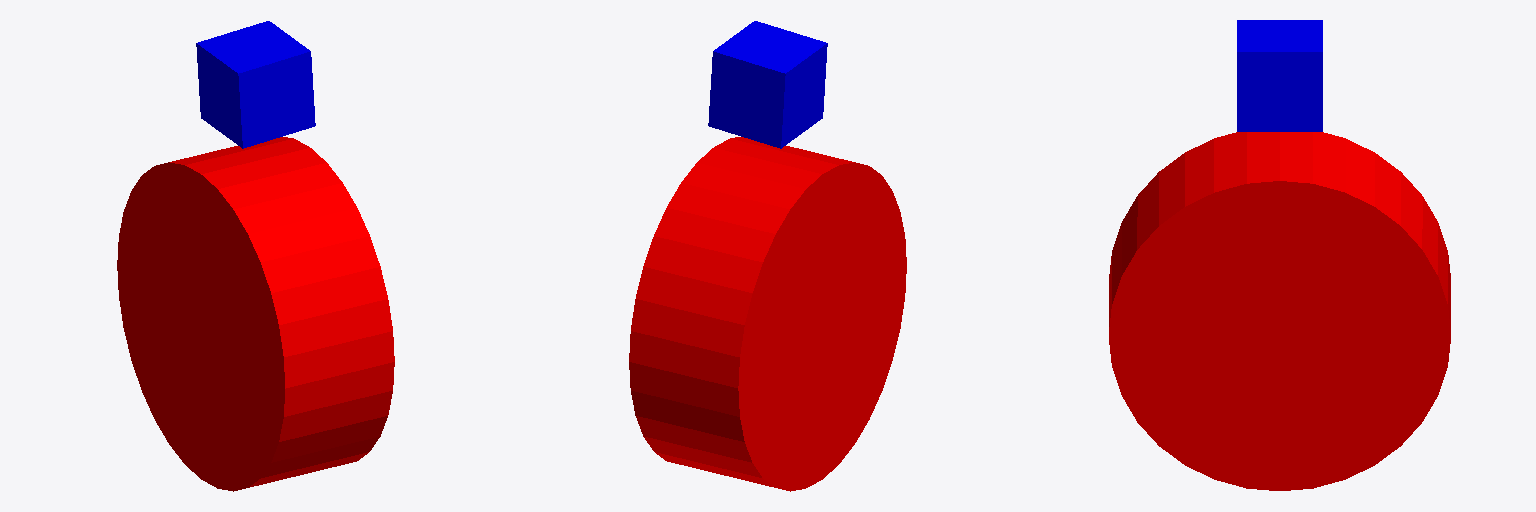
The robot description file, URDF, robot "ur5":
<?xml version="1.0"?>
<robot name="ur5">
  <link name="base_link">
    <inertial>
      <origin xyz="-0.00036702 -0.00036758 0.016561" rpy="0 0 0"/>
      <mass value="4.0"/>
      <inertia ixx="0.00060258" ixy="1.7502E-05" ixz="1.5277E-06" iyy="0.00060261" iyz="1.5241E-06" izz="0.0010709"/>
    </inertial>
    <visual>
      <origin xyz="0 0 0" rpy="0 0 0"/>
      <geometry>
        <mesh filename="package://ur5/base_link.STL"/>
      </geometry>
      <material name="White">
        <color rgba="0 0 0 1"/>
      </material>
    </visual>
    <collision>
      <origin xyz="0 0 0" rpy="0 0 0"/>
      <geometry>
        <mesh filename="package://ur5/base_link.STL"/>
      </geometry>
    </collision>
  </link>
  <link name="shoulder_link">
    <inertial>
      <origin xyz="-0.078966 0.016439 -6.3565E-06" rpy="0 0 0"/>
      <mass value="3.7"/>
      <inertia ixx="0.0028298" ixy="0.00031932" ixz="-1.3132E-07" iyy="0.002538" iyz="4.4907E-07" izz="0.0026207"/>
    </inertial>
    <visual>
      <origin xyz="0 0 0" rpy="0 0 0"/>
      <geometry>
        <mesh filename="package://ur5/shoulder_link.STL"/>
      </geometry>
      <material name="Black">
        <color rgba="0 0 1 1"/>
      </material>
    </visual>
    <collision>
      <origin xyz="0 0 0" rpy="0 0 0"/>
      <geometry>
        <mesh filename="package://ur5/shoulder_link.STL"/>
      </geometry>
    </collision>
  </link>
  <joint name="shoulder_pan_joint" type="revolute">
    <origin xyz="0 0 0.0099916" rpy="1.5708 1.5708 0"/>
    <parent link="base_link"/>
    <child link="shoulder_link"/>
    <axis xyz="1 0 0"/>
    <limit lower="-6.2832" upper="6.2832" effort="300" velocity="3"/>
    <dynamics damping="10" friction="1"/>
  </joint>
  <link name="upper_arm_link">
    <inertial>
      <origin xyz="-0.21652 0.079293 8.661E-08" rpy="0 0 0"/>
      <mass value="8.393"/>
      <inertia ixx="0.0063671" ixy="-9.2154E-12" ixz="9.0018E-07" iyy="0.021824" iyz="-2.2572E-07" izz="0.021327"/>
    </inertial>
    <visual>
      <origin xyz="0 0 0" rpy="0 0 0"/>
      <geometry>
        <mesh filename="package://ur5/upper_arm_link.STL"/>
      </geometry>
      <material name="Blue">
        <color rgba="0 1 0 1"/>
      </material>
    </visual>
    <collision>
      <origin xyz="0 0 0" rpy="0 0 0"/>
      <geometry>
        <mesh filename="package://ur5/upper_arm_link.STL"/>
      </geometry>
    </collision>
  </link>
  <joint name="shoulder_lift_joint" type="revolute">
    <origin xyz="-0.080008 0.053821 0" rpy="0 0 0"/>
    <parent link="shoulder_link"/>
    <child link="upper_arm_link"/>
    <axis xyz="0 -1 0"/>
    <limit lower="-1.57" upper="1.57" effort="200" velocity="3"/>
    <dynamics damping="10" friction="1"/>
  </joint>
  <link name="forearm_link">
    <inertial>
      <origin xyz="-0.1739 -0.033049 -2.6025E-06" rpy="0 0 0"/>
      <mass value="2.275"/>
      <inertia ixx="0.002241" ixy="-0.00011285" ixz="4.2229E-07" iyy="0.011808" iyz="-2.6928E-07" izz="0.011655"/>
    </inertial>
    <visual>
      <origin xyz="0 0 0" rpy="0 0 0"/>
      <geometry>
        <mesh filename="package://ur5/forearm_link.STL"/>
      </geometry>
      <material name="Green">
        <color rgba="0.5 0 0.5 1"/>
      </material>
    </visual>
    <collision>
      <origin xyz="0 0 0" rpy="0 0 0"/>
      <geometry>
        <mesh filename="package://ur5/forearm_link.STL"/>
      </geometry>
    </collision>
  </link>
  <joint name="elbow_joint" type="revolute">
    <origin xyz="-0.425 0 0" rpy="0 0 0"/>
    <parent link="upper_arm_link"/>
    <child link="forearm_link"/>
    <axis xyz="0 1 0"/>
    <limit lower="-6.2832" upper="6.2832" effort="200" velocity="3"/>
    <dynamics damping="10" friction="1"/>
  </joint>
  <link name="wrist_1_link">
    <inertial>
      <origin xyz="0.003753 0.044978 1.2618E-05" rpy="0 0 0"/>
      <mass value="1.219"/>
      <inertia ixx="0.00041141" ixy="4.2784E-05" ixz="-2.8598E-07" iyy="0.00036744" iyz="4.089E-07" izz="0.000387"/>
    </inertial>
    <visual>
      <origin xyz="0 0 0" rpy="0 0 0"/>
      <geometry>
        <mesh filename="package://ur5/wrist_1_link.STL"/>
      </geometry>
      <material name="Purple">
        <color rgba="1 0 0 1"/>
      </material>
    </visual>
    <collision>
      <origin xyz="0 0 0" rpy="0 0 0"/>
      <geometry>
        <mesh filename="package://ur5/wrist_1_link.STL"/>
      </geometry>
    </collision>
  </link>
  <joint name="wrist_1_joint" type="revolute">
    <origin xyz="-0.39225 0 0" rpy="0 0 0"/>
    <parent link="forearm_link"/>
    <child link="wrist_1_link"/>
    <axis xyz="0 -1 0"/>
    <limit lower="-6.2832" upper="6.2832" effort="200" velocity="3"/>
    <dynamics damping="10" friction="1"/>
  </joint>
  <link name="wrist_2_link">
    <inertial>
      <origin xyz="-0.083749 -0.0037532 -1.2446E-05" rpy="0 0 0"/>
      <mass value="1.219"/>
      <inertia ixx="0.00036744" ixy="4.2782E-05" ixz="4.1013E-07" iyy="0.0004114" iyz="-2.8709E-07" izz="0.000387"/>
    </inertial>
    <visual>
      <origin xyz="0 0 0" rpy="0 0 0"/>
      <geometry>
        <mesh filename="package://ur5/wrist_2_link.STL"/>
      </geometry>
      <material name="Red">
        <color rgba="1 0.5 0 1"/>
      </material>
    </visual>
    <collision>
      <origin xyz="0 0 0" rpy="0 0 0"/>
      <geometry>
        <mesh filename="package://ur5/wrist_2_link.STL"/>
      </geometry>
    </collision>
  </link>
  <joint name="wrist_2_joint" type="revolute">
    <origin xyz="0 0.056149 0" rpy="0 0 0"/>
    <parent link="wrist_1_link"/>
    <child link="wrist_2_link"/>
    <axis xyz="1 0 0"/>
    <limit lower="-6.2832" upper="6.2832" effort="200" velocity="3"/>
    <dynamics damping="10" friction="1"/>
  </joint>
  <link name="wrist_3_link">
    <inertial>
      <origin xyz="-7.8282E-05 0.018179 0.00011982" rpy="0 0 0"/>
      <mass value="0.1879"/>
      <inertia ixx="6.8269E-05" ixy="5.7754E-08" ixz="-3.2009E-07" iyy="0.00011604" iyz="-8.84E-08" izz="6.8551E-05"/>
    </inertial>
    <visual>
      <origin xyz="0 0 0" rpy="0 0 0"/>
      <geometry>
        <mesh filename="package://ur5/wrist_3_link.STL"/>
      </geometry>
      <material name="Orange">
        <color rgba="1 1 1 1"/>
      </material>
    </visual>
    <collision>
      <origin xyz="0 0 0" rpy="0 0 0"/>
      <geometry>
        <mesh filename="package://ur5/wrist_3_link.STL"/>
      </geometry>
    </collision>
  </link>
  <joint name="wrist_3_joint" type="revolute">
    <origin xyz="-0.09492 0.041547 0" rpy="3.1416 0 3.1416"/>
    <parent link="wrist_2_link"/>
    <child link="wrist_3_link"/>
    <axis xyz="0 -1 0"/>
    <limit lower="-6.2832" upper="6.2832" effort="100" velocity="3"/>
    <dynamics damping="10" friction="1"/>
  </joint>
  <joint name="gripper_joint1" type="revolute">
    <axis xyz="1 0 0"/>
    <parent link="wrist_3_link"/>
    <child link="vacuum_gripper1"/>
    <origin rpy="1.570 0 0" xyz="0 0.04 0"/>
    <limit effort="50" velocity="50" lower="0" upper="0"/>
    <dynamics damping="0.0" friction="1000"/>
  </joint>
  <link name="vacuum_gripper1">
    <collision>
      <origin xyz="0 0 0" rpy="0 0 0"/>
      <geometry>
        <box size="0.0 0.0 0.0"/>
      </geometry>
    </collision>
    <gravity>0</gravity>
    <visual>
      <origin rpy="0 0 0" xyz="0 0 0"/>
      <geometry>
        <cylinder radius="0.02" length="0.015"/>
      </geometry>
      <material name="red">
        <color rgba="1 0 0 1"/>
      </material>
    </visual>
    <inertial>
      <origin rpy="0 0 0" xyz="0.000000 0.000000 0.000000"/>
      <mass value="0.0001"/>
      <inertia ixx="1e-08" ixy="0" ixz="0" iyy="1e-08" iyz="0" izz="1e-08"/>
    </inertial>
  </link>
  <joint name="camera_joint" type="fixed">
    <axis xyz="0 1 0"/>
    <origin xyz="0.03 0.04 0" rpy="0 0 1.508"/>
    <parent link="wrist_3_link"/>
    <child link="camera_link"/>
  </joint><!-- Camera link -->
  <link name="camera_link">
    <collision>
      <origin xyz="0 0 0" rpy="0 0 0"/>
      <geometry>
        <box size="0.01 0.01 0.01"/>
      </geometry>
    </collision>
    <visual>
      <origin xyz="0 0 0" rpy="0 0 0"/>
      <geometry>
        <box size="0.01 0.01 0.01"/>
      </geometry>
      <material name="Black"/>
    </visual>
    <inertial>
      <mass value="1e-5"/>
      <origin xyz="0 0 0" rpy="0 0 0"/>
      <inertia ixx="1e-6" ixy="0" ixz="0" iyy="1e-6" iyz="0" izz="1e-6"/>
    </inertial>
  </link><!-- World and base links -->
  <link name="world"><!-- No inertial properties required --></link>
  <joint name="world_to_base" type="fixed">
    <parent link="world"/>
    <child link="base_link"/>
    <origin xyz="0 0 0" rpy="0 0 0"/>
  </joint>
</robot>

--- What the picture shows (computed from the rendered views, not written in the file) ---
3 views of the same robot in one strip: view 1: azimuth 30°, elevation 25°; view 2: azimuth 150°, elevation 25°; view 3: azimuth 270°, elevation 25° (orthographic).
Robot: ur5 — 10 links, 9 joints (7 revolute, 2 fixed); root link world; default pose: every joint at zero.
Links seen in each view (by area): view 1: vacuum_gripper1, camera_link; view 2: vacuum_gripper1, camera_link; view 3: vacuum_gripper1, camera_link.
Link boxes in pixels (x1=…): vacuum_gripper1: x1=117, y1=137, x2=394, y2=491; camera_link: x1=196, y1=21, x2=315, y2=148; vacuum_gripper1: x1=629, y1=137, x2=906, y2=491; camera_link: x1=708, y1=21, x2=827, y2=148; vacuum_gripper1: x1=1109, y1=132, x2=1450, y2=490; camera_link: x1=1237, y1=20, x2=1322, y2=131.
Size in the robot's own frame: 0.015 by 0.04 by 0.0553 metres.
0 mesh visuals loaded from 7 distinct referenced files (none loaded); not drawn: 7 (reference not matched to a file when rendering).